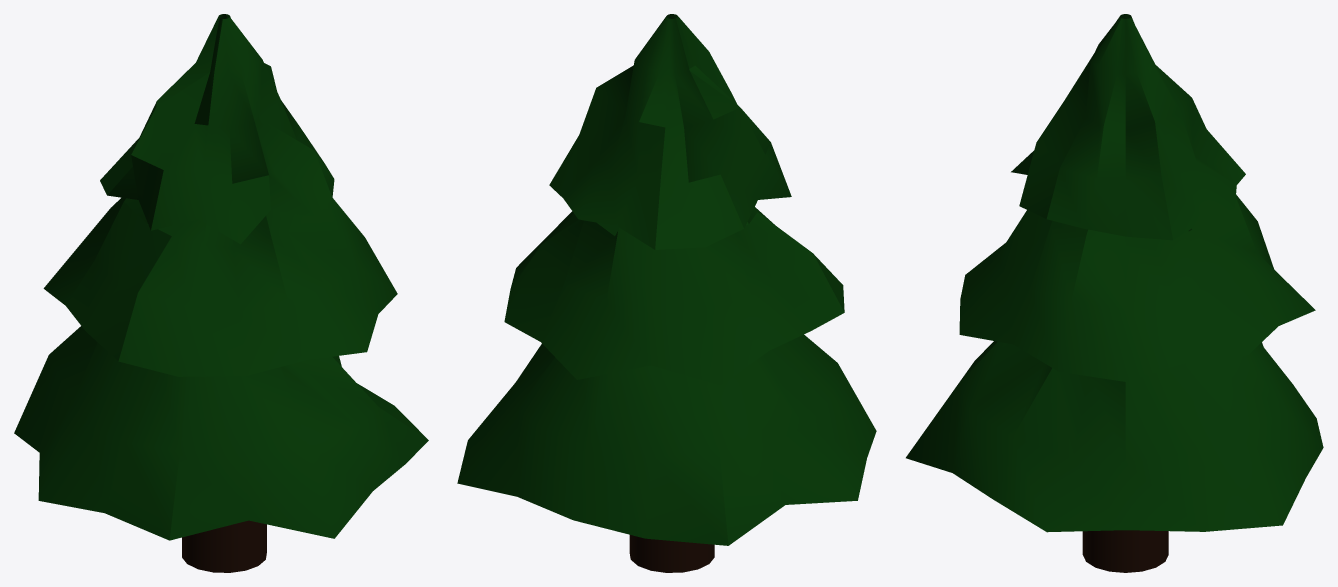
File: tree.fbx
3 views of the same model, side by side, from view 1: azimuth 30°, elevation 25°; view 2: azimuth 150°, elevation 25°; view 3: azimuth 270°, elevation 25° (orthographic).
Visible parts, largest first — view 1: Bottom, Middle, Top, Root; view 2: Bottom, Middle, Top, Root; view 3: Bottom, Middle, Top, Root.
Boxes of the visible parts, left/top/right/bottom form: Bottom: left=14, top=326, right=428, bottom=540; Middle: left=43, top=197, right=397, bottom=376; Top: left=100, top=14, right=334, bottom=244; Root: left=182, top=520, right=266, bottom=572; Bottom: left=457, top=334, right=876, bottom=545; Middle: left=504, top=207, right=844, bottom=385; Top: left=549, top=14, right=791, bottom=249; Root: left=629, top=535, right=714, bottom=572; Bottom: left=906, top=341, right=1323, bottom=532; Middle: left=959, top=194, right=1315, bottom=381; Top: left=1011, top=14, right=1245, bottom=240; Root: left=1082, top=530, right=1168, bottom=572.
Bounding box in the file's own units: 65.96 × 95.35 × 67.12.
